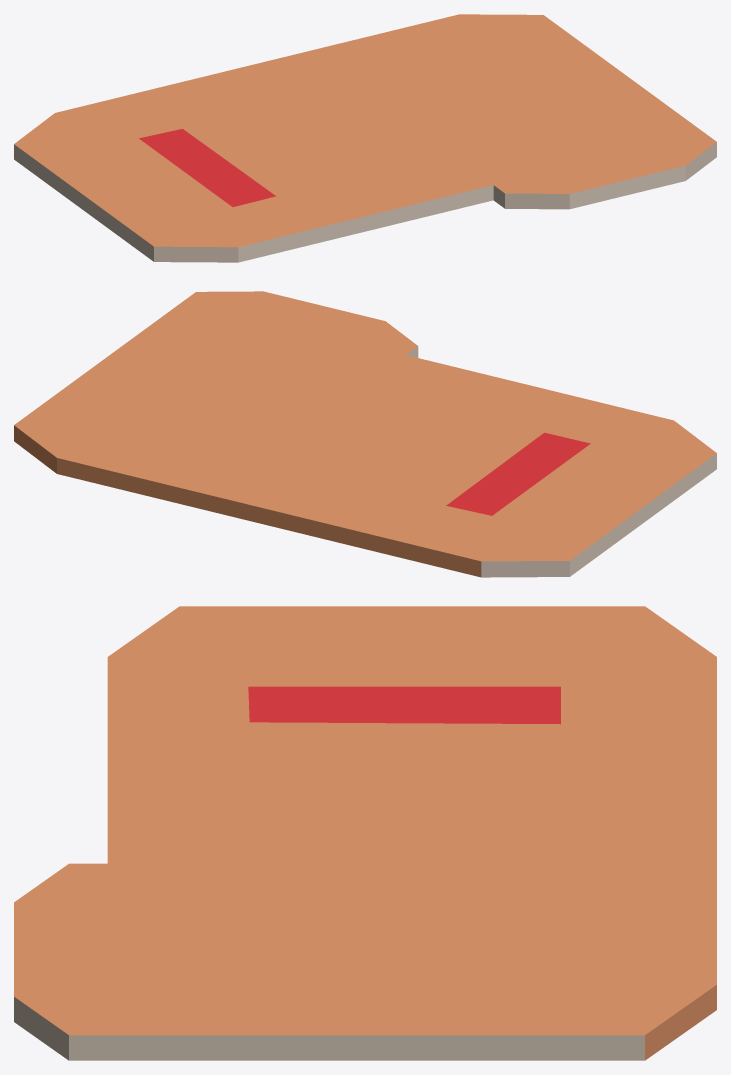
The model's file is Case_file_red.fbx.
3 views of the same model, one above another, from view 1: azimuth 30°, elevation 25°; view 2: azimuth 150°, elevation 25°; view 3: azimuth 270°, elevation 25° (orthographic). The views are drawn at different scales.
Parts seen in each view (by area): view 1: Case file red; view 2: Case file red; view 3: Case file red.
Boxes of the visible parts, left/top/right/bottom form: Case file red: left=14, top=14, right=716, bottom=262; Case file red: left=14, top=291, right=716, bottom=577; Case file red: left=14, top=606, right=716, bottom=1060.
Size of the model in its own units: 94.59 by 2.62 by 65.49.
